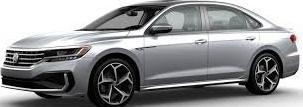Cars: (2, 2, 300, 107)
